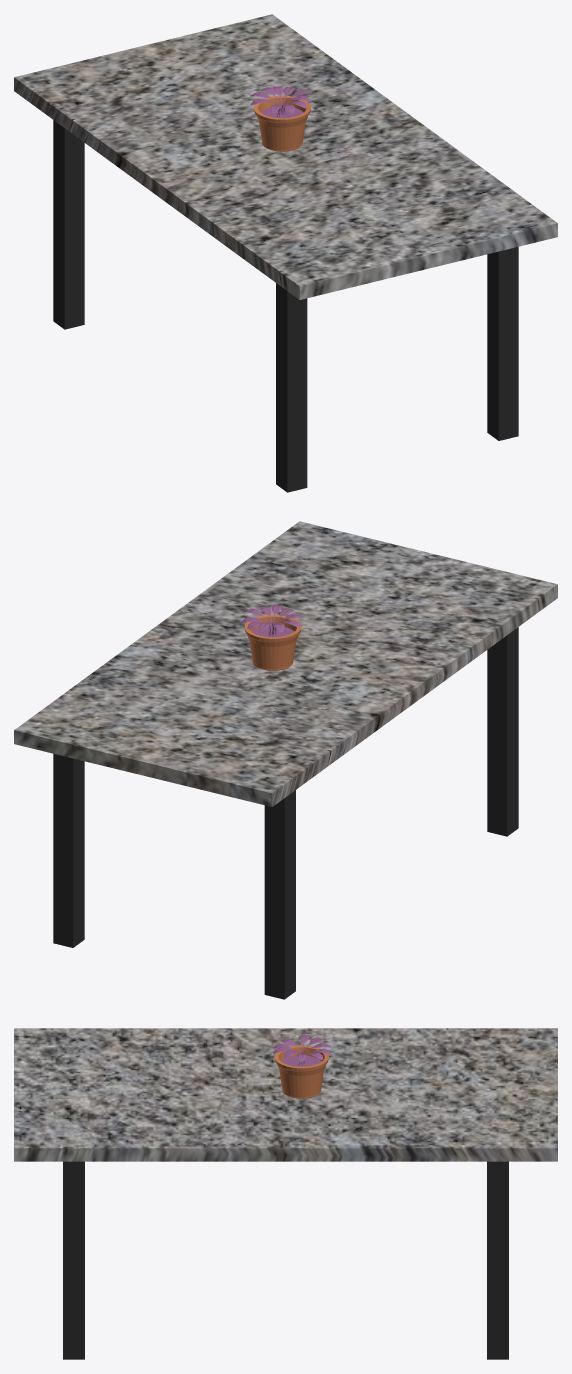
The model's file is MesaCozinha-Modelo3D.fbx.
3 views of the same model, one above another, from view 1: azimuth 30°, elevation 25°; view 2: azimuth 150°, elevation 25°; view 3: azimuth 270°, elevation 25° (orthographic). The views are drawn at different scales.
Parts seen in each view (by area): view 1: Mesa_Cozinha, Vaso; view 2: Mesa_Cozinha, Vaso; view 3: Mesa_Cozinha, Vaso.
Boxes of the visible parts, <box> form: Mesa_Cozinha: <box>14,14,557,492</box>; Vaso: <box>250,86,311,151</box>; Mesa_Cozinha: <box>14,521,557,999</box>; Vaso: <box>241,605,303,670</box>; Mesa_Cozinha: <box>14,1028,557,1359</box>; Vaso: <box>272,1035,331,1098</box>.
Size of the model in its own units: 147 by 149 by 281.
